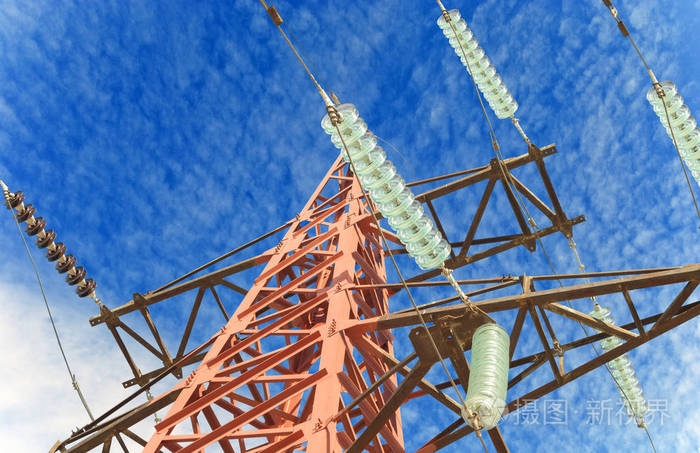insulator: (322, 105, 451, 267), (1, 192, 95, 298), (437, 7, 514, 116), (587, 307, 648, 414), (644, 81, 700, 179), (460, 325, 513, 428)
